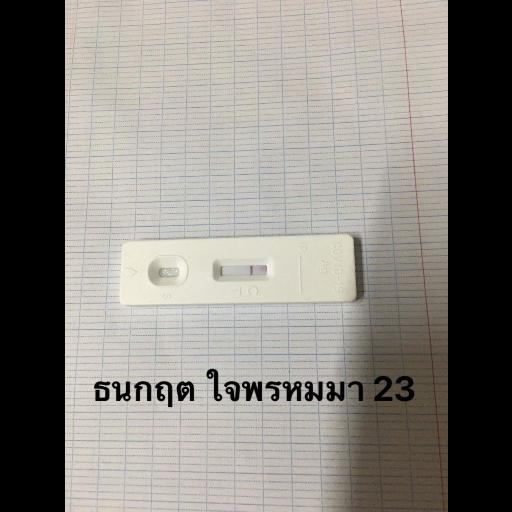Neg: (119, 232, 358, 305)
